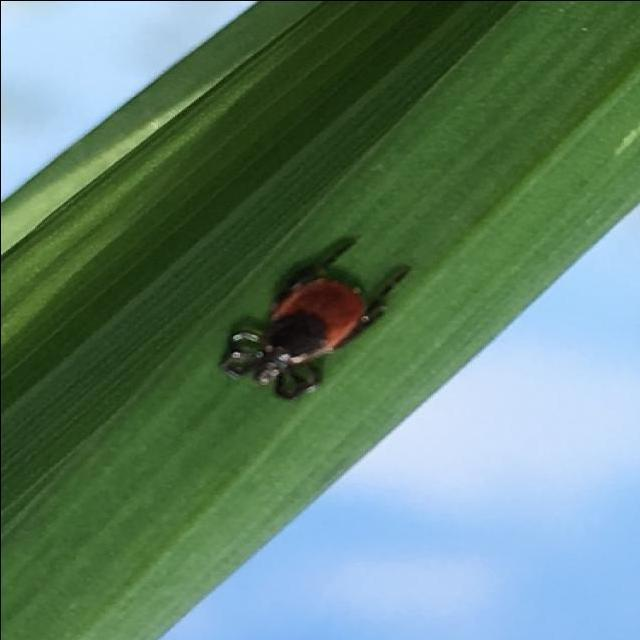Ixodes Ricinus-F: (218, 236, 408, 398)
